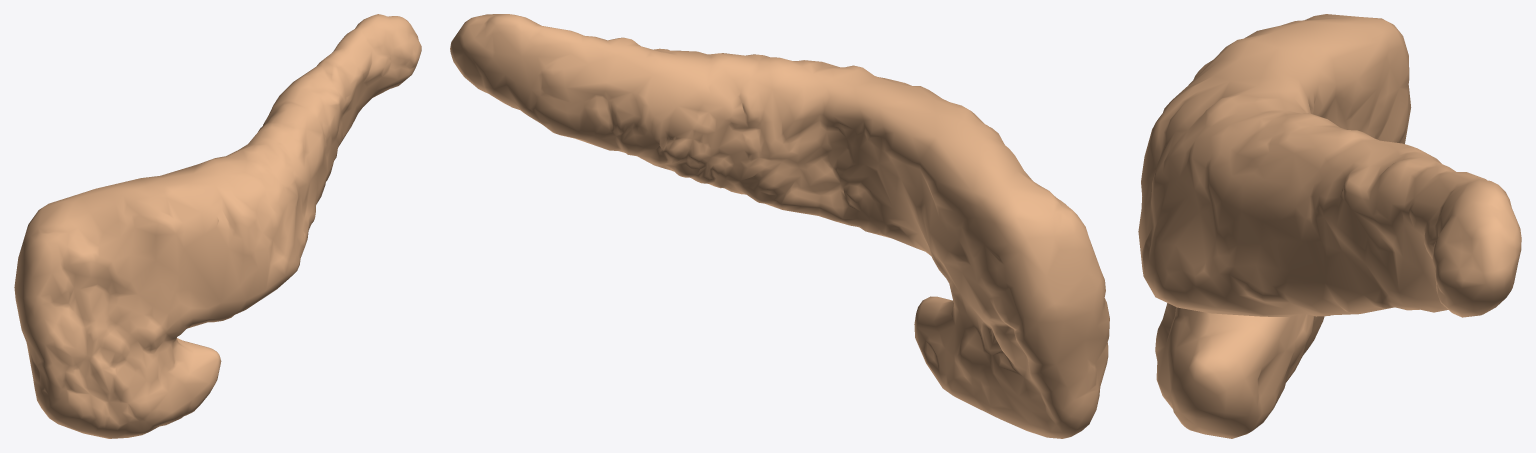
Rendered from pancreas.glb.
The picture shows the model from 3 angles, left to right: view 1: azimuth 30°, elevation 25°; view 2: azimuth 150°, elevation 25°; view 3: azimuth 270°, elevation 25°; orthographic projection. The views are drawn at different scales.
Parts seen in each view (by area): view 1: pancreas; view 2: pancreas; view 3: pancreas.
Part boxes in pixels (bbox=[...]): pancreas: bbox=[14, 14, 421, 438]; pancreas: bbox=[450, 14, 1109, 438]; pancreas: bbox=[1138, 14, 1521, 438].
Size of the model in its own units: 0.1206 by 0.0737 by 0.051.
